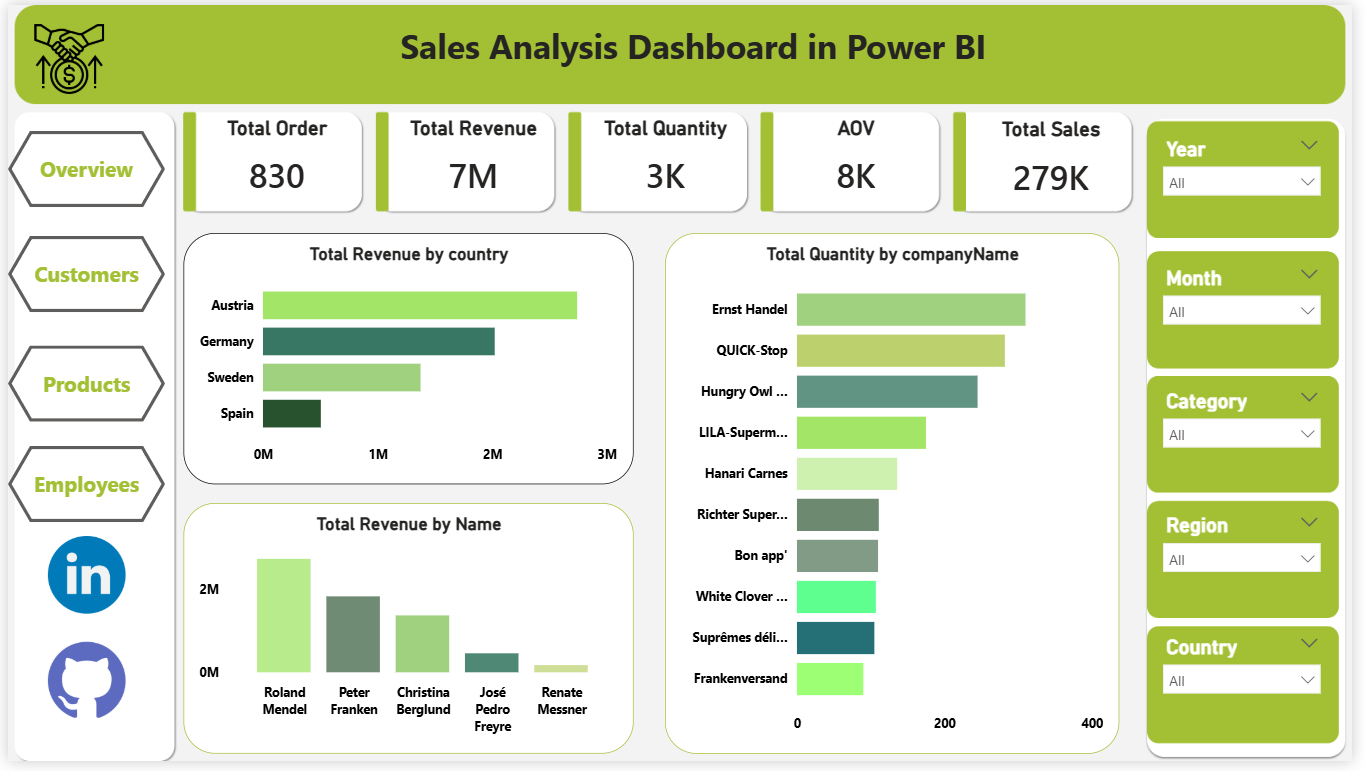

The dashboard page shown, as its layout file describes it:
{"tool":"powerbi","page":{"name":"Page 1","canvas":[1280,720],"ordinal":0},"visuals":[{"type":"textbox","box":[247.3,12.6,811.2,78.8],"z":0},{"type":"actionButton","box":[0,119.7,149.6,72.5],"z":1000},{"type":"actionButton","box":[0,220.5,149.6,72.5],"z":2000},{"type":"actionButton","box":[0,324.5,149.6,72.5],"z":3000},{"type":"actionButton","box":[0,420.5,149.6,72.5],"z":4000},{"type":"image","box":[20.5,505.6,110.3,74],"z":5000},{"type":"image","box":[20.5,606.4,110.3,74],"z":6000},{"type":"slicer","fields":{"Values":["Dates.Year"]},"box":[1090,119.7,170.1,100.8],"z":7000},{"type":"slicer","fields":{"Values":["Dates.Month"]},"box":[1090,242.6,170.1,100.8],"z":8000},{"type":"slicer","fields":{"Values":["customers.region"]},"box":[1090,478.8,170.1,100.8],"z":9000},{"type":"slicer","fields":{"Values":["categories.categoryName"]},"box":[1090,360.7,170.1,100.8],"z":10000},{"type":"slicer","fields":{"Values":["customers.country"]},"box":[1090,593.8,170.1,100.8],"z":11000},{"type":"cardVisual","title":"Total Order","fields":{"Data":["_Measures.Total Orders"]},"box":[179.6,105.5,152.8,86.6],"z":12000},{"type":"cardVisual","title":"Total Revenue","fields":{"Data":["_Measures.Total Revenue"]},"box":[367,105.5,152.8,86.6],"z":13000},{"type":"cardVisual","title":"Total Quantity","fields":{"Data":["_Measures.Total Quantity"]},"box":[549.7,105.5,152.8,86.6],"z":14000},{"type":"cardVisual","title":"AOV","fields":{"Data":["_Measures.AOV"]},"box":[730.8,105.5,152.8,86.6],"z":15000},{"type":"cardVisual","title":"Total Sales","fields":{"Data":["_Measures.Total Sales"]},"box":[916.7,107.1,152.8,86.6],"z":16000},{"type":"image","box":[20,17.1,77.1,68.6],"z":17000},{"type":"areaChart","fields":{"Category":["Dates.Month"],"Y":["_Measures.Total Revenue"]},"box":[168.5,209.5,433.1,225.2],"z":18000},{"type":"donutChart","fields":{"Y":["_Measures.Total Revenue"],"Category":["categories.categoryName"]},"box":[168.8,460.6,432.9,234.3],"z":19000},{"type":"barChart","fields":{"Y":["_Measures.Total Revenue"],"Category":["customers.country"]},"box":[625.4,210.5,434.8,224.4],"z":20000},{"type":"lineChart","fields":{"Y":["_Measures.Total Revenue"],"Category":["Dates.Year"]},"box":[625,461,435,234],"z":21000}]}

Visuals, with their boxes in screenshot pixels (x1, y1, x2, y2), scaled from the page's 1280x720 canvas onto the 1365x771 screenshot:
textbox: 264, 13, 1129, 98
actionButton: 0, 128, 160, 206
actionButton: 0, 236, 160, 314
actionButton: 0, 347, 160, 425
actionButton: 0, 450, 160, 528
image: 22, 541, 139, 621
image: 22, 649, 139, 729
slicer - Dates.Year: 1162, 128, 1344, 236
slicer - Dates.Month: 1162, 260, 1344, 368
slicer - customers.region: 1162, 513, 1344, 621
slicer - categories.categoryName: 1162, 386, 1344, 494
slicer - customers.country: 1162, 636, 1344, 744
"Total Order" cardVisual: 192, 113, 354, 206
"Total Revenue" cardVisual: 391, 113, 554, 206
"Total Quantity" cardVisual: 586, 113, 749, 206
"AOV" cardVisual: 779, 113, 942, 206
"Total Sales" cardVisual: 978, 115, 1141, 207
image: 21, 18, 104, 92
areaChart - Dates.Month x _Measures.Total Revenue: 180, 224, 642, 465
donutChart - _Measures.Total Revenue x categories.categoryName: 180, 493, 642, 744
barChart - _Measures.Total Revenue x customers.country: 667, 225, 1131, 466
lineChart - _Measures.Total Revenue x Dates.Year: 667, 494, 1130, 744
